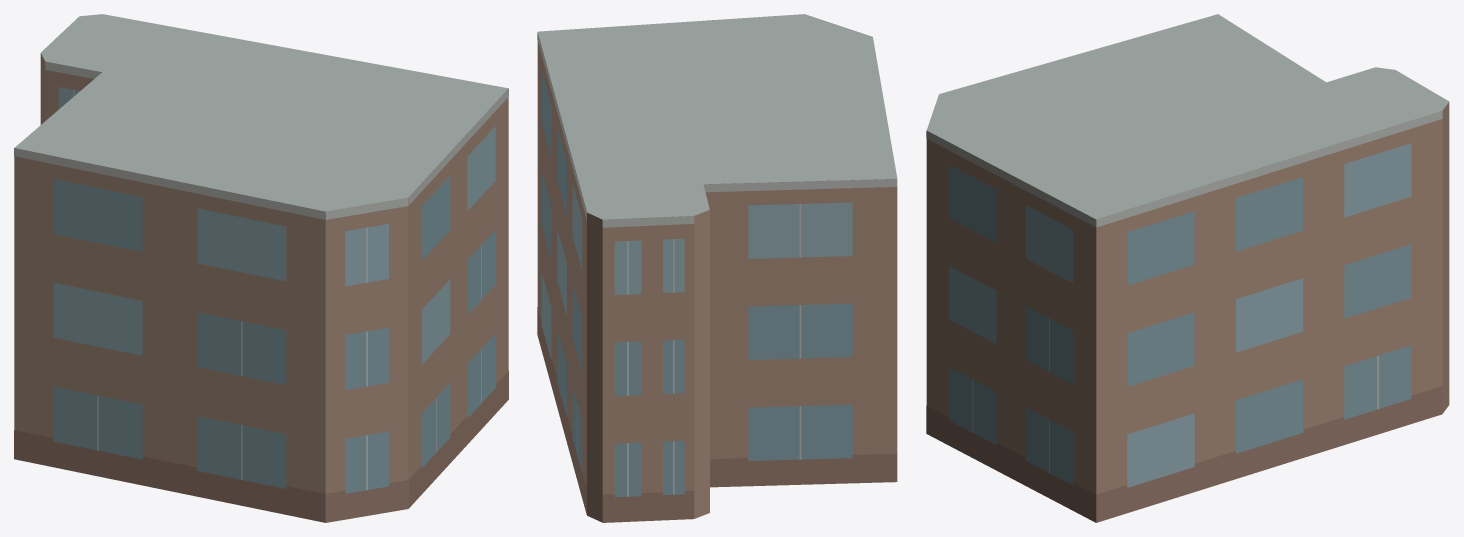
The model's file is survey-upis-32475225.glb.
The picture shows the model from 3 angles, left to right: view 1: azimuth 30°, elevation 25°; view 2: azimuth 150°, elevation 25°; view 3: azimuth 270°, elevation 25°; orthographic projection. The views are drawn at different scales.
Visible parts, largest first — view 1: survey-upis-32475225.tmp; view 2: survey-upis-32475225.tmp; view 3: survey-upis-32475225.tmp.
Boxes of the visible parts, box(x1,y1,x2,y2) form: survey-upis-32475225.tmp: box(14, 14, 508, 522); survey-upis-32475225.tmp: box(537, 14, 897, 522); survey-upis-32475225.tmp: box(926, 14, 1449, 522).
Bounding box in the file's own units: 13.3 × 9.15 × 14.3.
